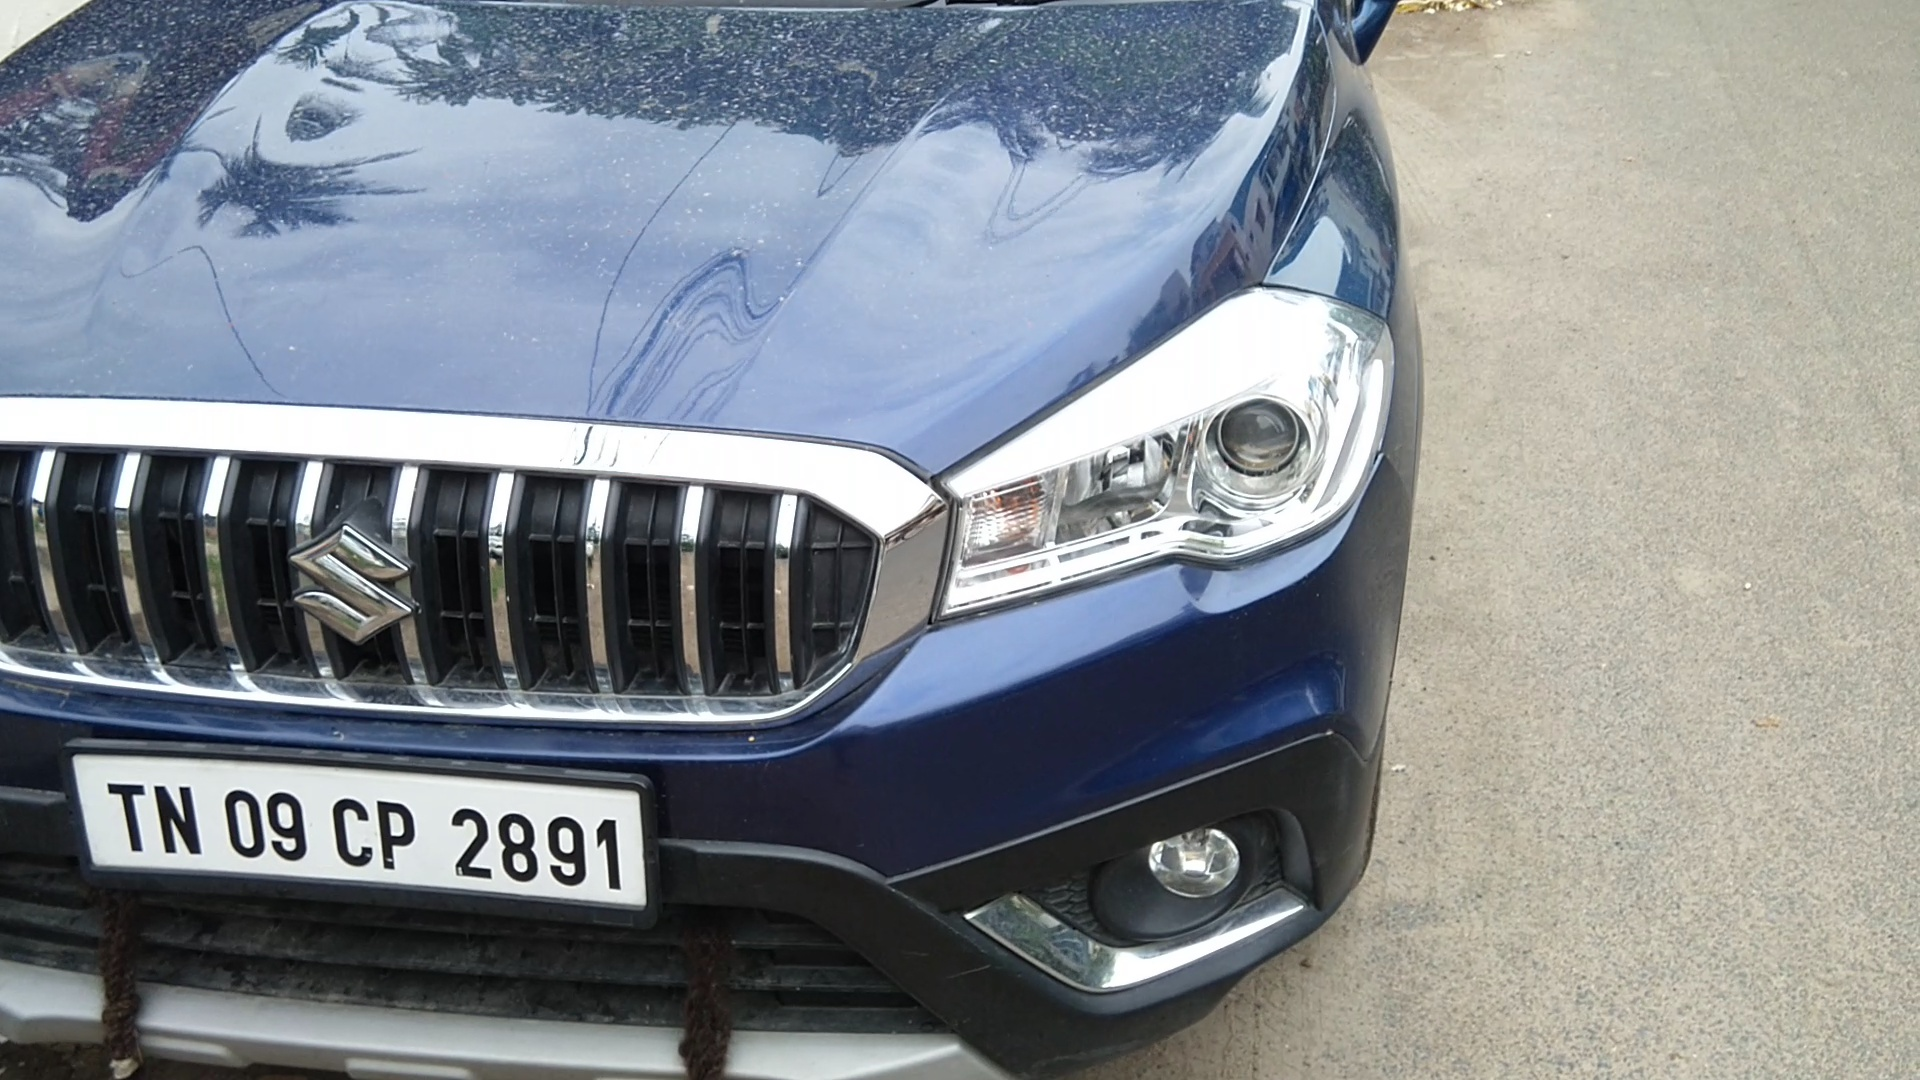front_grill: (3, 381, 949, 716)
headlamp: (939, 265, 1400, 634)
